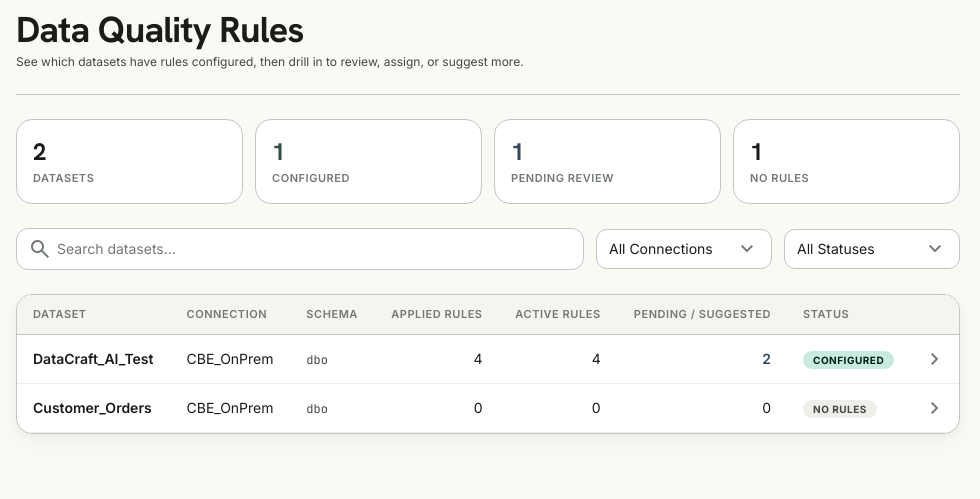
Scenario: QualityRulesMasterView › filters by status
Click the button with aria-label "Filter by status" at (872, 248), box [784,228,960,268]
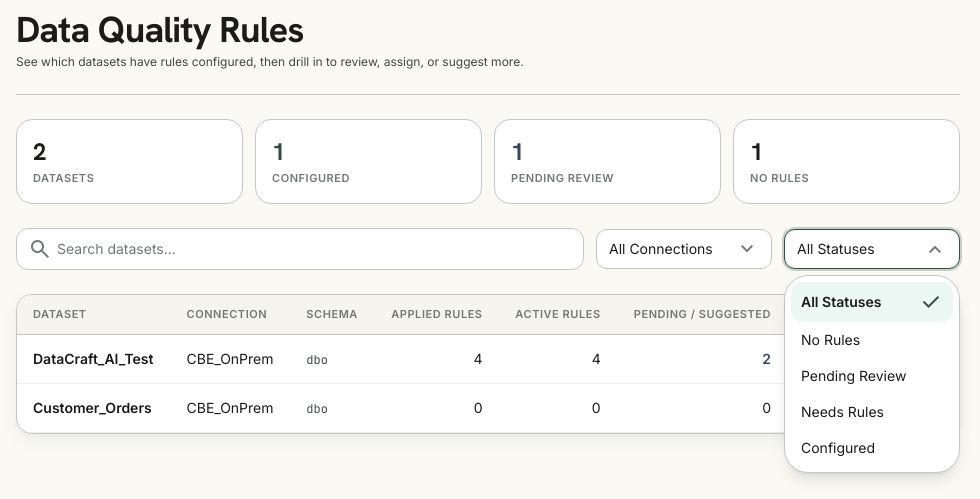
Click the option "No Rules" at (831, 339), box [801,330,860,348]
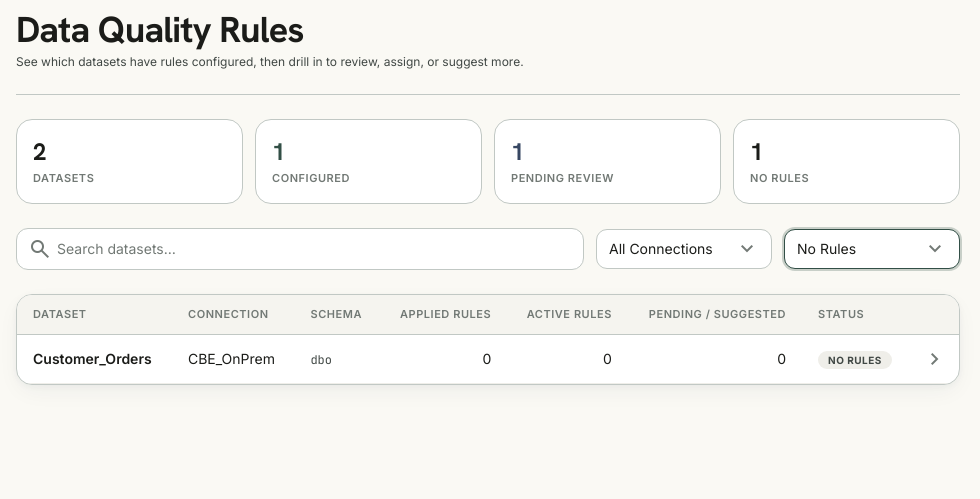
Check: the text "Customer_Orders" is shown, box [33,350,152,367]
Check: the button "DataCraft_AI_Test" is gone
